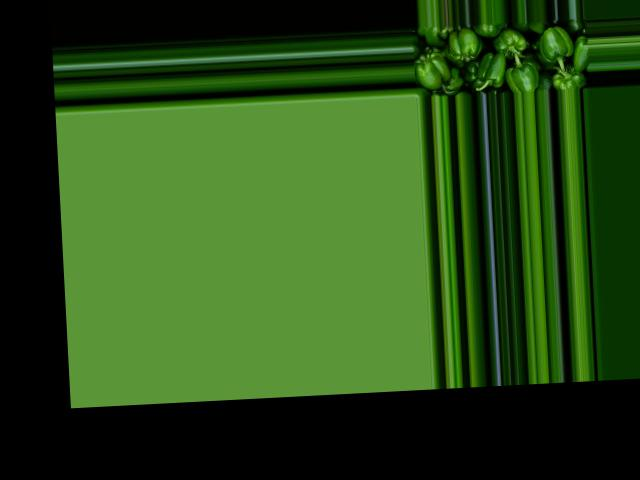bell_pepper: (411, 18, 588, 95)
